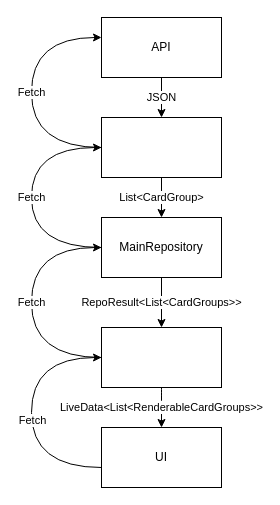
Some shapes in this 280 by 505 pixel diagram are drawn without their labels. The box of each missing label's shape, as (x1, y1, x2, y2) in pixels:
Retrofit: (100, 116, 222, 178)
ViewModel: (100, 326, 222, 388)
